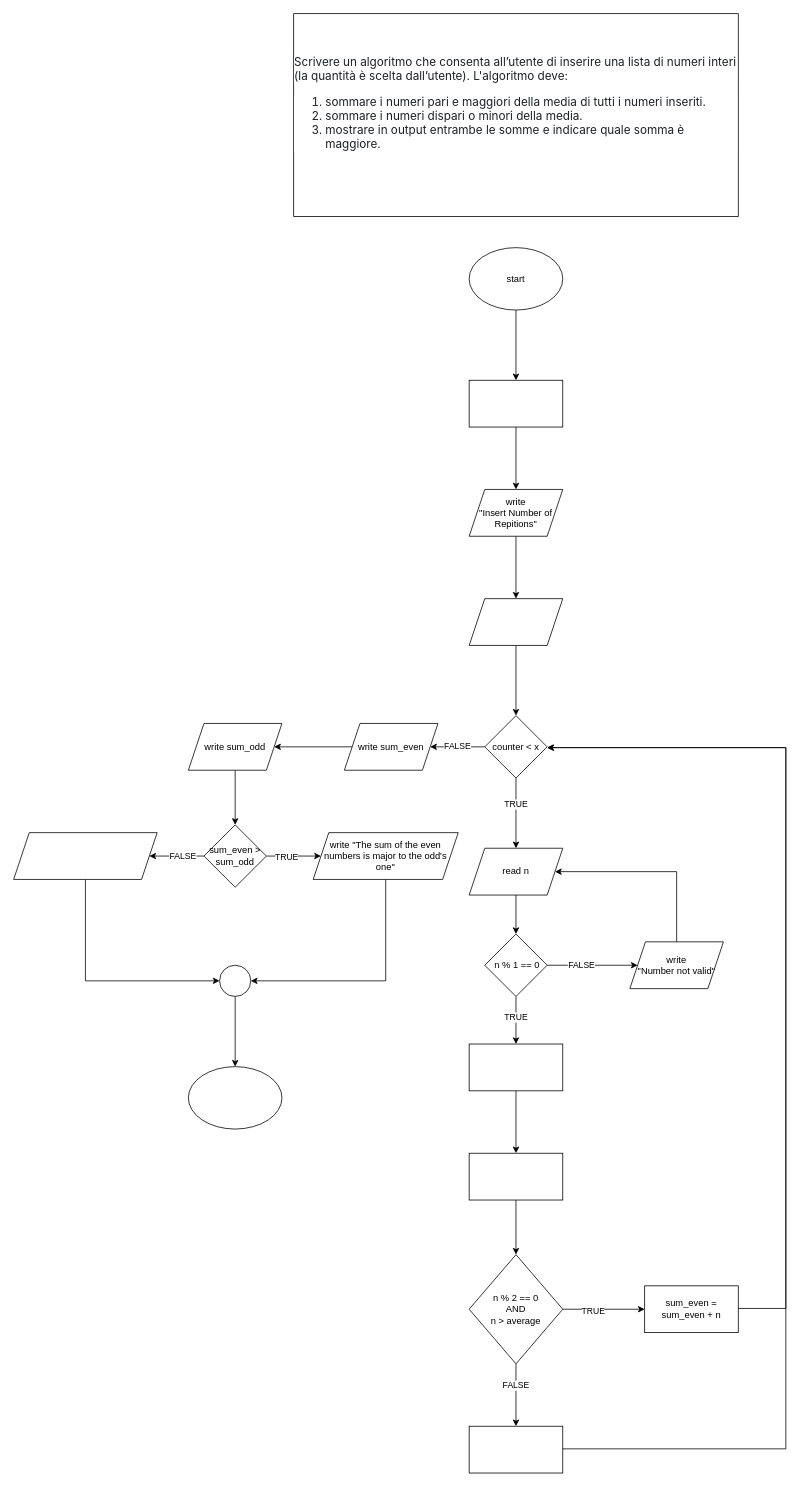
Some shapes in this 806 by 1487 pixel diagram are drawn without their labels. Here are the shapes that lost their labels. From the top down, the centre of each, then its label:
pixel 515 403: sum_even = 0 sum_odd = 0 average = 0 counter = 0
pixel 515 621: read x
pixel 85 855: write "The sum of the odd numbers is major to the even's one"
pixel 515 1067: counter += 1
pixel 235 1097: end
pixel 515 1176: average = ((counter-1) * average + n) / counter
pixel 515 1449: sum_odd = sum_odd + n
